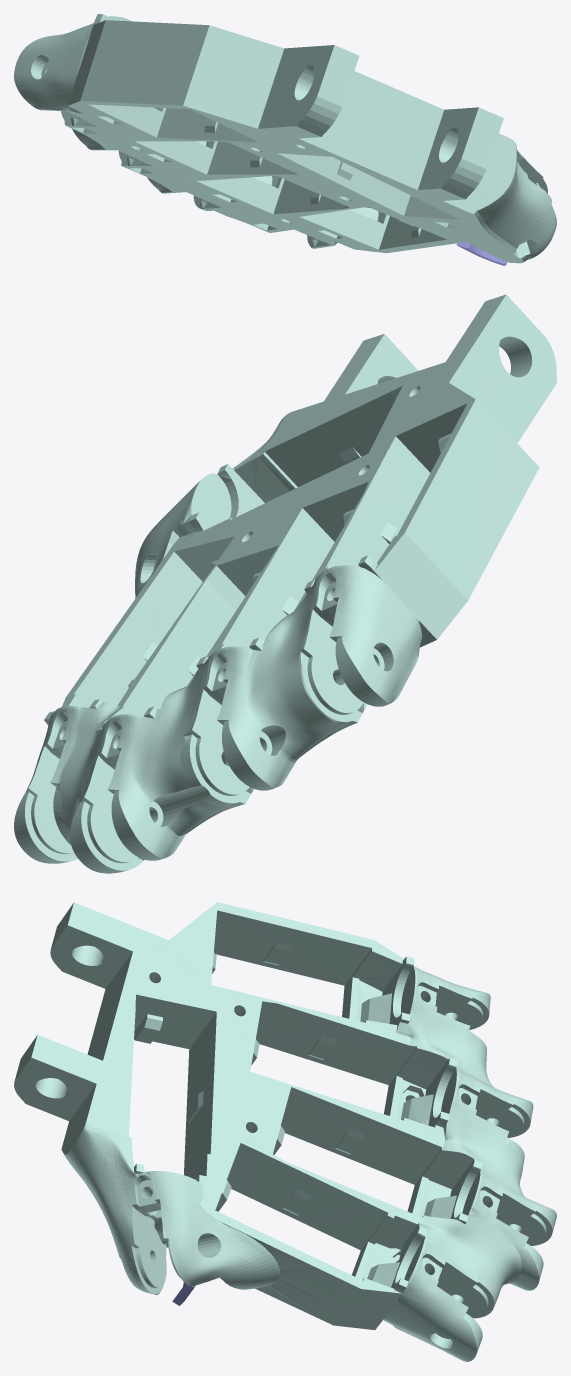
File: left_wrist_z_link_visual_3.obj.full.glb
3 views of the same model, one above another, from view 1: azimuth 30°, elevation 25°; view 2: azimuth 150°, elevation 25°; view 3: azimuth 270°, elevation 25° (orthographic). The views are drawn at different scales.
Size of the model in its own units: 0.9967 by 0.9886 by 1.31.
